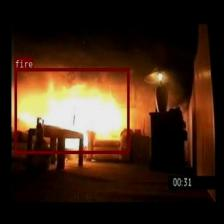fire: (14, 67, 129, 153)
